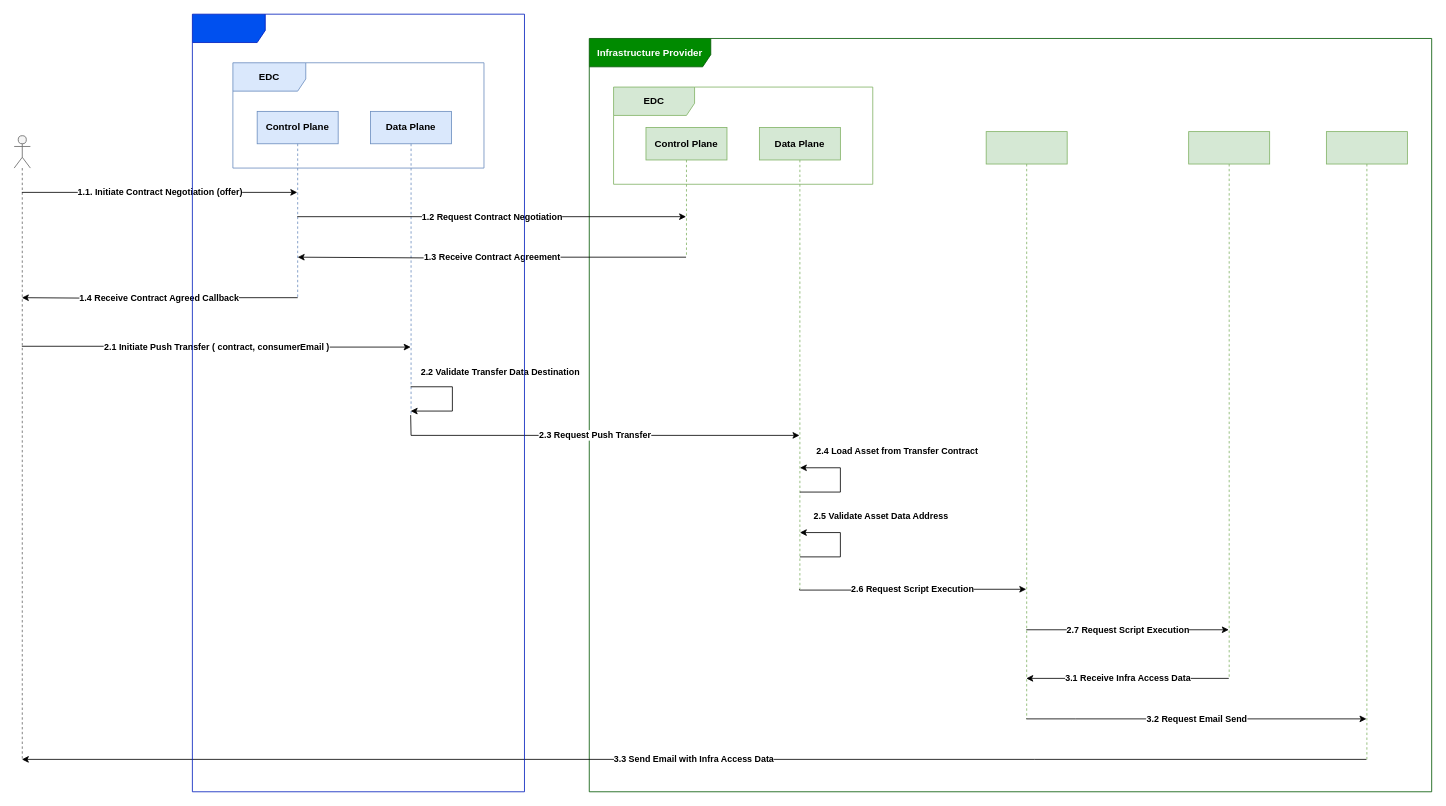
This 1446x806 diagram has some shape labels left out. The box of each missing label's shape, as (x1, y1, x2, y2) in pixels:
Consumer: (192, 13, 524, 792)
Provisioning Module: (1188, 131, 1270, 678)
SMTP Service: (1326, 131, 1407, 759)
Triggering Module: (985, 131, 1067, 719)
